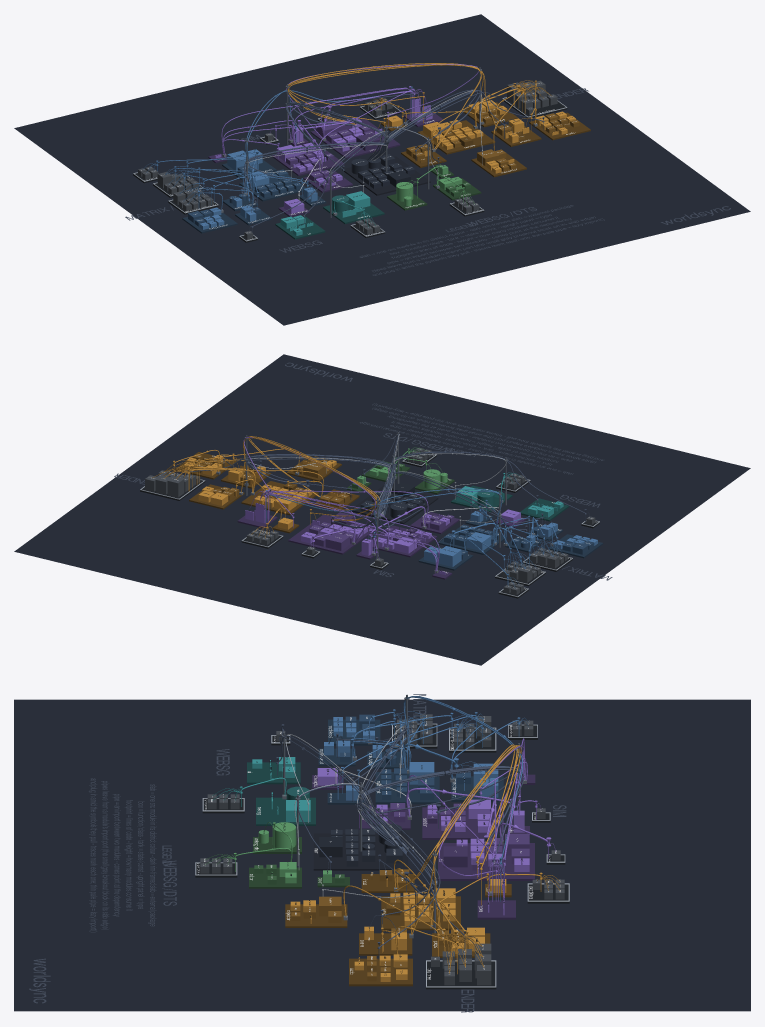
File: arch.glb
3 renders of one model, top to bottom at view 1: azimuth 30°, elevation 25°; view 2: azimuth 150°, elevation 25°; view 3: azimuth 270°, elevation 25°, orthographic. The views are drawn at different scales.
Visible parts, largest first — view 1: floor, world, mod_main_slab, mod_render_slab, mod_sim_slab; view 2: floor, world, mod_sim_slab, mod_main_slab; view 3: floor, world, mod_main_slab, mod_sim_slab, mod_render_slab, mod_session_slab, mod_audio_slab, dep_three_slab, mod_websg_slab, mod_matrix_net_slab, mod_ui_slab, mod_scene_slab (+10 smaller).
Part boxes in pixels (x1,y1,x2,y2): floor: [14, 14, 750, 325]; world: [125, 88, 730, 275]; mod_main_slab: [342, 156, 430, 195]; mod_render_slab: [417, 120, 495, 154]; mod_sim_slab: [310, 119, 400, 158]; floor: [14, 354, 750, 665]; world: [114, 362, 612, 580]; mod_sim_slab: [288, 514, 374, 554]; mod_main_slab: [351, 485, 438, 524]; floor: [14, 699, 750, 1011]; world: [29, 694, 566, 1012]; mod_main_slab: [313, 833, 408, 870]; mod_sim_slab: [438, 843, 534, 880]; mod_render_slab: [381, 896, 460, 930]; mod_session_slab: [422, 807, 496, 839]; mod_audio_slab: [349, 958, 412, 986]; dep_three_slab: [426, 961, 496, 989]; mod_websg_slab: [256, 797, 315, 825]; mod_matrix_net_slab: [375, 772, 439, 804]; mod_ui_slab: [247, 762, 300, 784]; mod_scene_slab: [359, 933, 412, 955].
Size of the model in its own units: 58.25 by 8.12 by 57.01.
